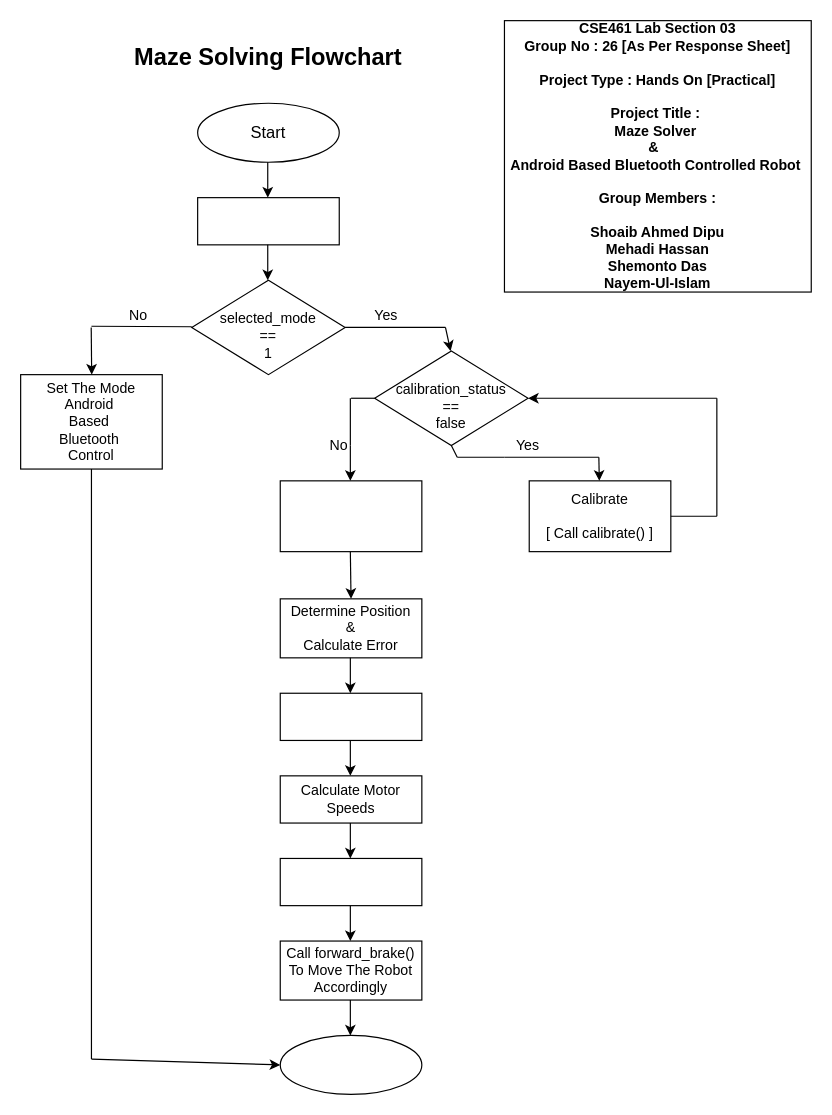
Image size: 832x1115. Some labels were removed from this diagram. The shapes that lost their labels are listed below. From the top down, each one's centre as x and y in pixels, then its label:
the point at 267,220: Select Mode
the point at 350,516: Solve Maze [ Call PID_Cotrol() ]
the point at 350,716: Set P, I, D Values
the point at 350,881: Update Motor Speeds
the point at 350,1064: End
